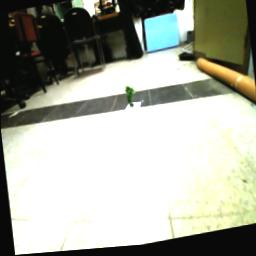herb: (122, 83, 139, 114)
